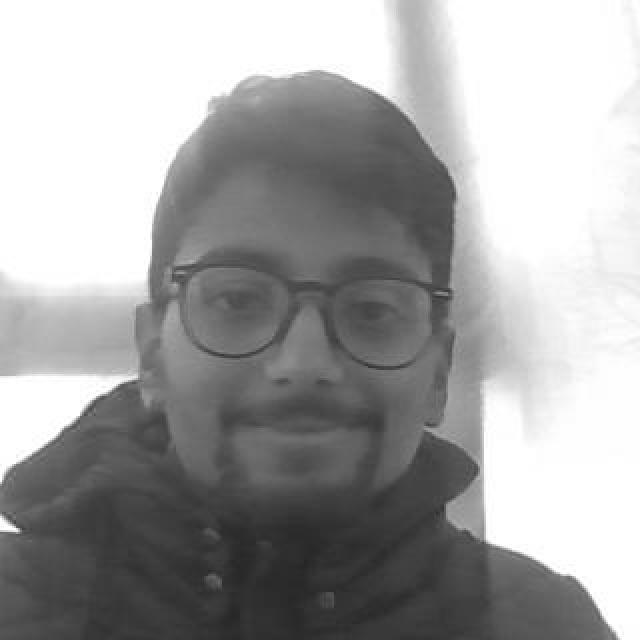Focused: (150, 150, 438, 512)
